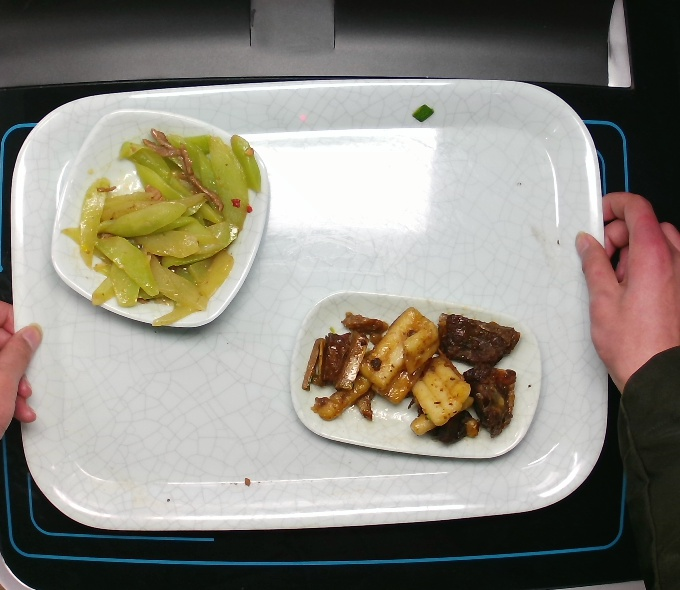wcq-NianGaoZaiPai: (297, 301, 530, 449)
wcq-WoSun: (57, 126, 268, 332)
